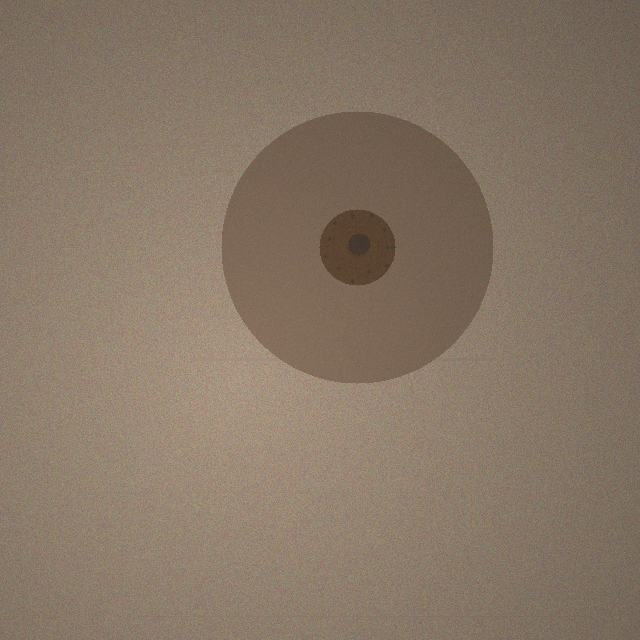cold_weld: (221, 111, 493, 383)
